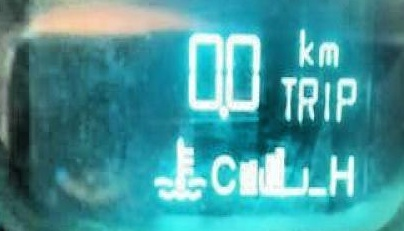-: (215, 98, 230, 125)
0: (184, 25, 223, 110), (225, 26, 260, 110)
X: (326, 148, 359, 198), (207, 148, 236, 200), (335, 70, 357, 123), (298, 22, 318, 67), (296, 73, 313, 122), (279, 72, 295, 118), (319, 37, 339, 67), (321, 77, 331, 123)
